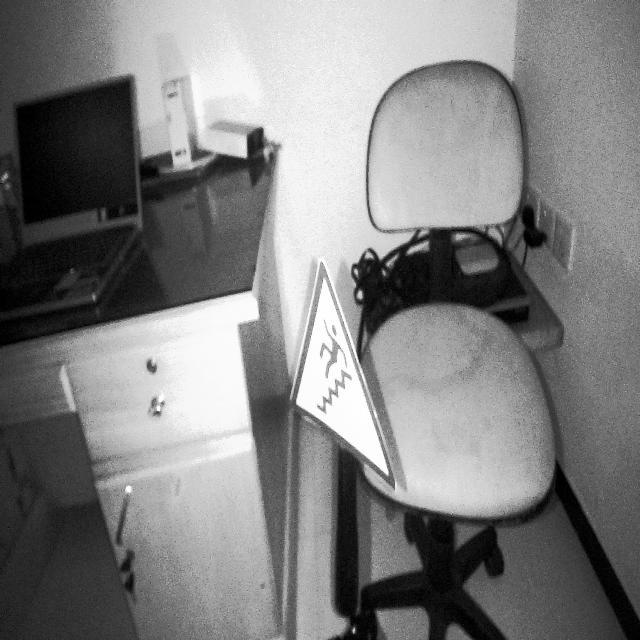Sign: (288, 256, 398, 494)
